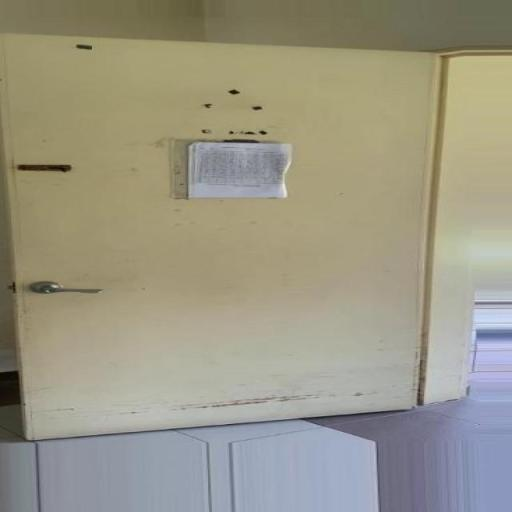door: (14, 23, 490, 455)
